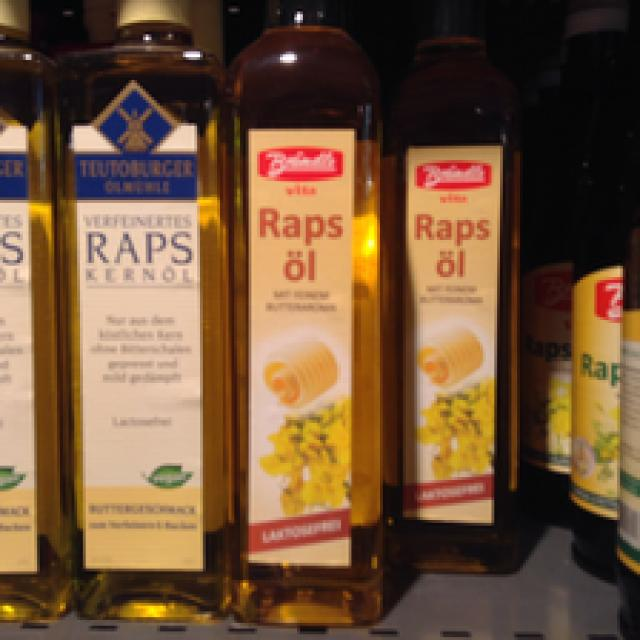groceries: (48, 0, 228, 623), (220, 6, 391, 620), (383, 6, 520, 574)
